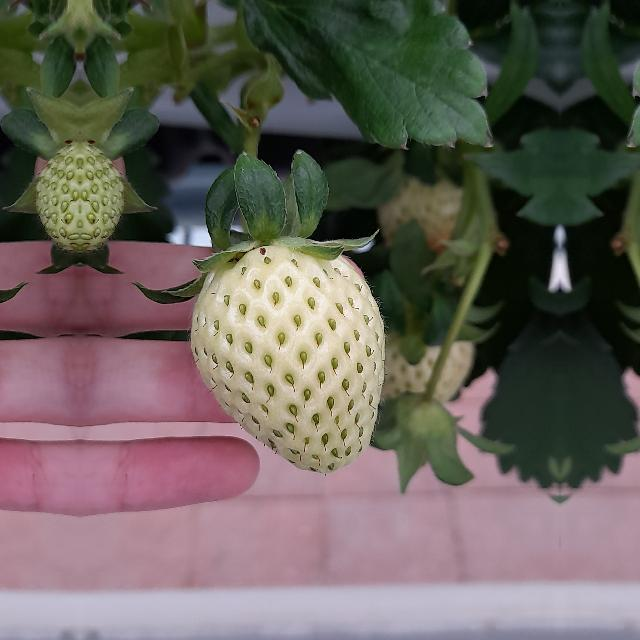Health_25: (191, 245, 385, 473), (80, 134, 124, 256), (36, 134, 80, 256)
